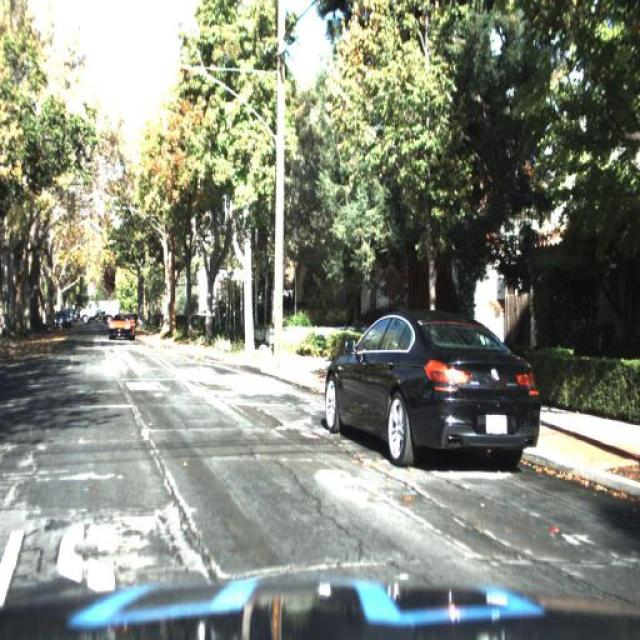car: (320, 306, 542, 476), (320, 306, 551, 464), (105, 306, 136, 346)
